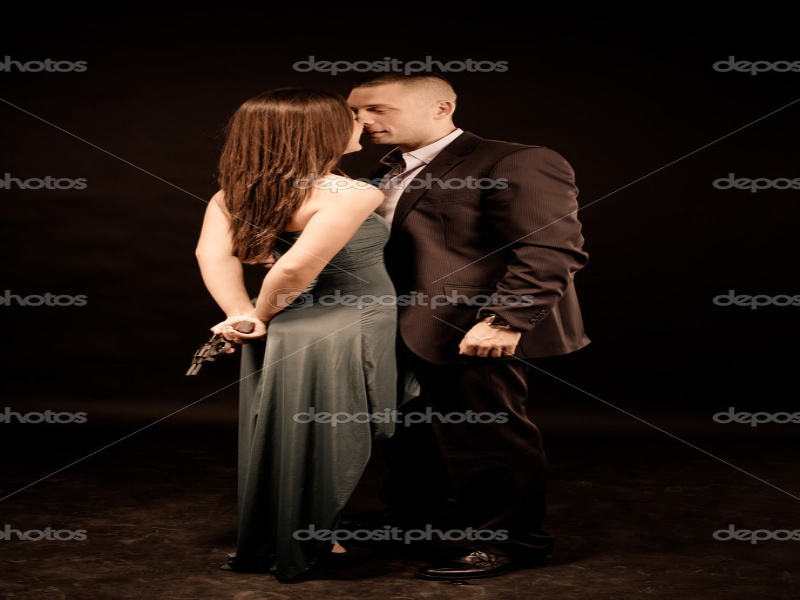gun: (183, 316, 263, 392)
